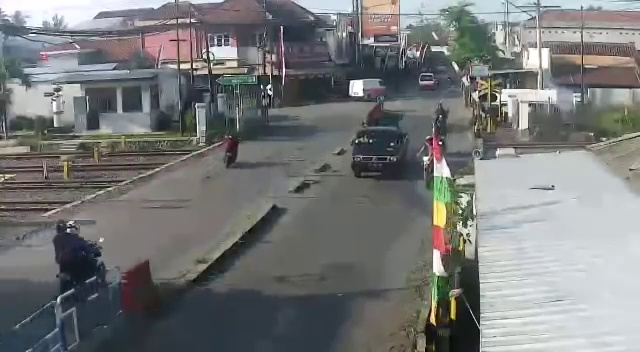car: (352, 124, 410, 180), (349, 79, 388, 106), (417, 72, 437, 94)
motorbike: (55, 216, 109, 302), (420, 136, 435, 188), (220, 134, 240, 166), (434, 103, 447, 140)
